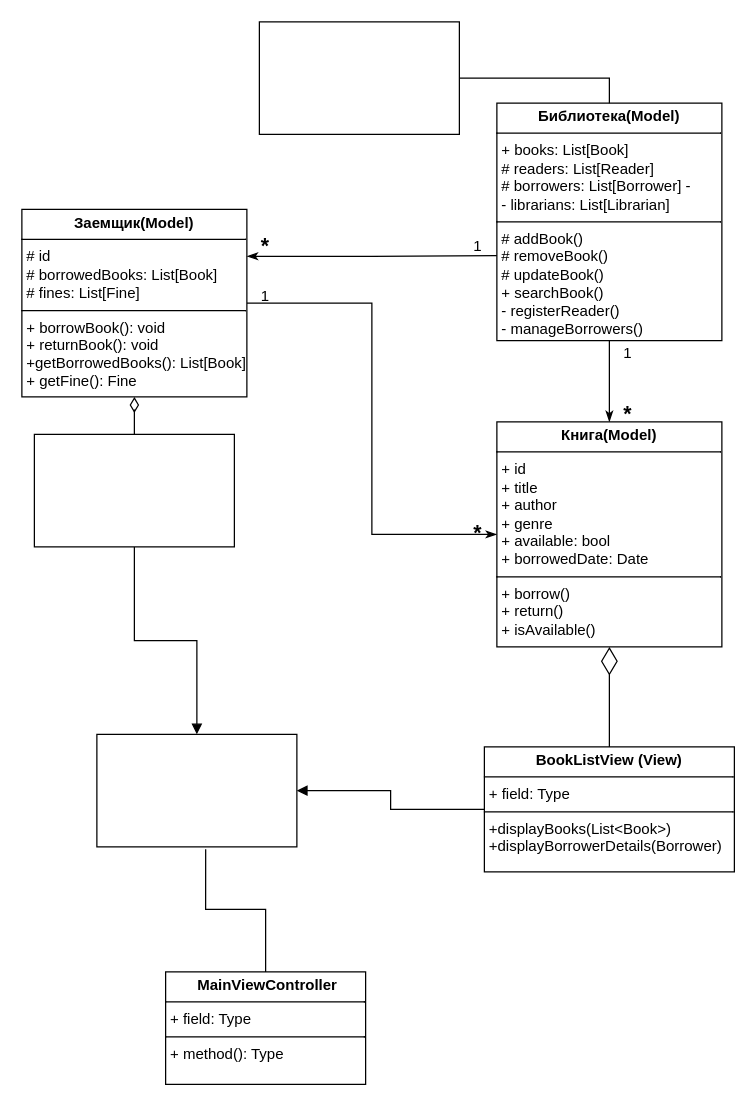
This 756x1106 diagram has some shape labels left out. Here are the shapes that lost their labels. From the top down, the box of each, then its label:
(258, 21, 459, 134): LibraryController + field: Type + method(): Type
(33, 433, 234, 547): BorrowerListView (View) + field: Type + method(): Type
(96, 733, 297, 847): MainView (View) + field: Type + method(): Type
